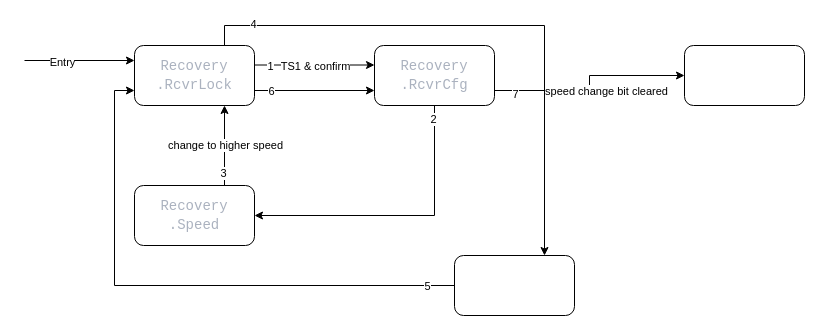
Some shapes in this 822 by 333 pixel diagram are drawn without their labels. Here are the shapes that lost their labels. From the top down, the centre of each, then its label:
At pixel 744 75: "Recovery .Idle".
At pixel 514 285: "Recovery .Equalization".
